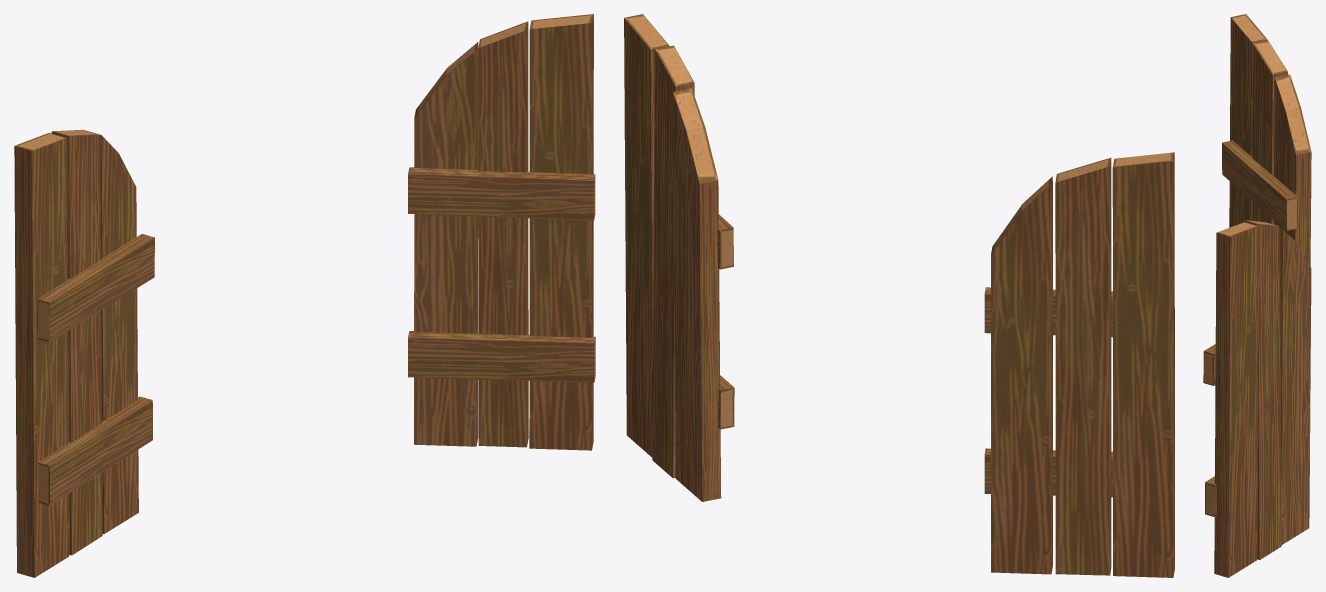
File: WindowShutters_Wide_Round_Open.gltf
3 views of the same model, side by side, from view 1: azimuth 30°, elevation 25°; view 2: azimuth 150°, elevation 25°; view 3: azimuth 270°, elevation 25° (orthographic). The views are drawn at different scales.
Visible parts, largest first — view 1: WindowShutters_Wide_Round_Open; view 2: WindowShutters_Wide_Round_Open; view 3: WindowShutters_Wide_Round_Open.
Part boxes in pixels (x1,y1,x2,y2): WindowShutters_Wide_Round_Open: [14, 14, 595, 577]; WindowShutters_Wide_Round_Open: [624, 14, 1174, 577]; WindowShutters_Wide_Round_Open: [1203, 14, 1311, 577].
Bounding box in the file's own units: 2.3 × 1.65 × 0.4724.
Materials: 1 (1 with a texture image).
